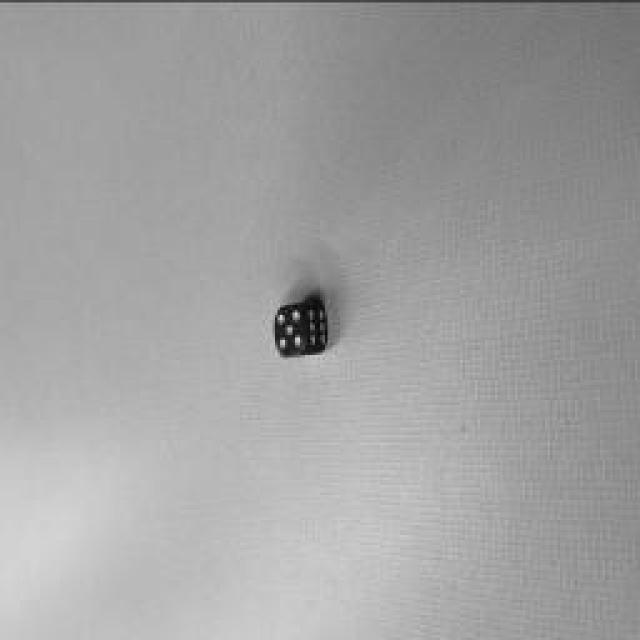dice_5: (274, 302, 306, 356)
